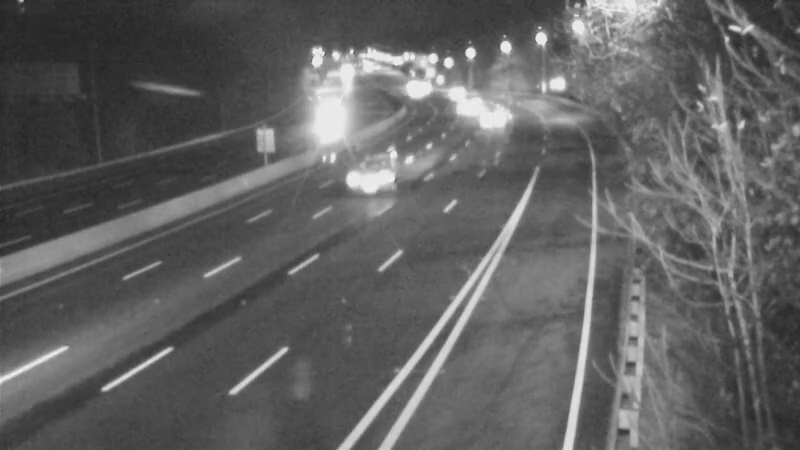vehicle: (322, 134, 402, 214), (425, 67, 475, 117), (441, 81, 491, 131), (465, 91, 515, 141), (303, 100, 353, 150)
